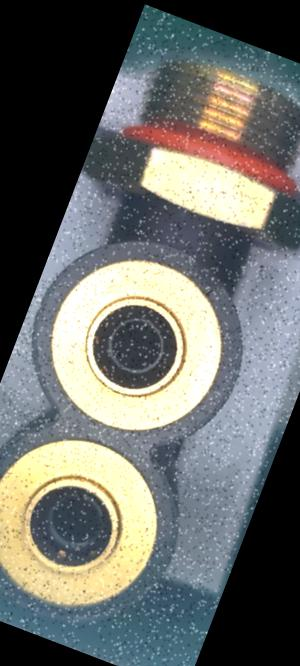bump: (183, 260, 229, 295)
white mark: (174, 204, 191, 222)
